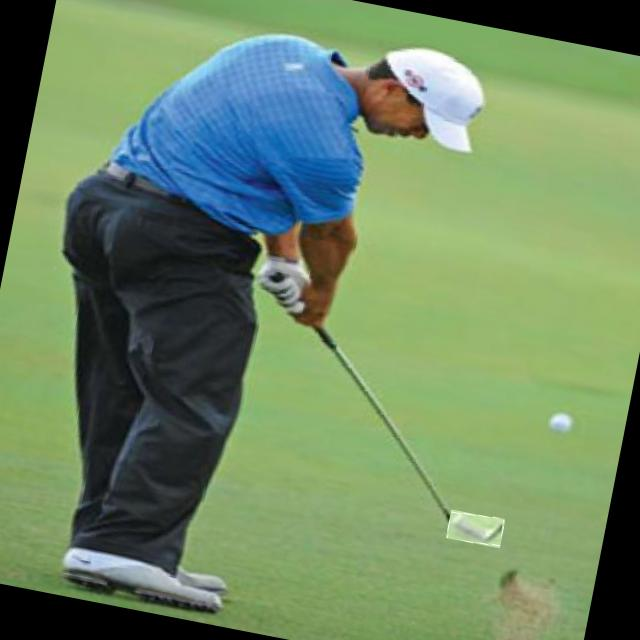club head: (446, 509, 505, 548)
